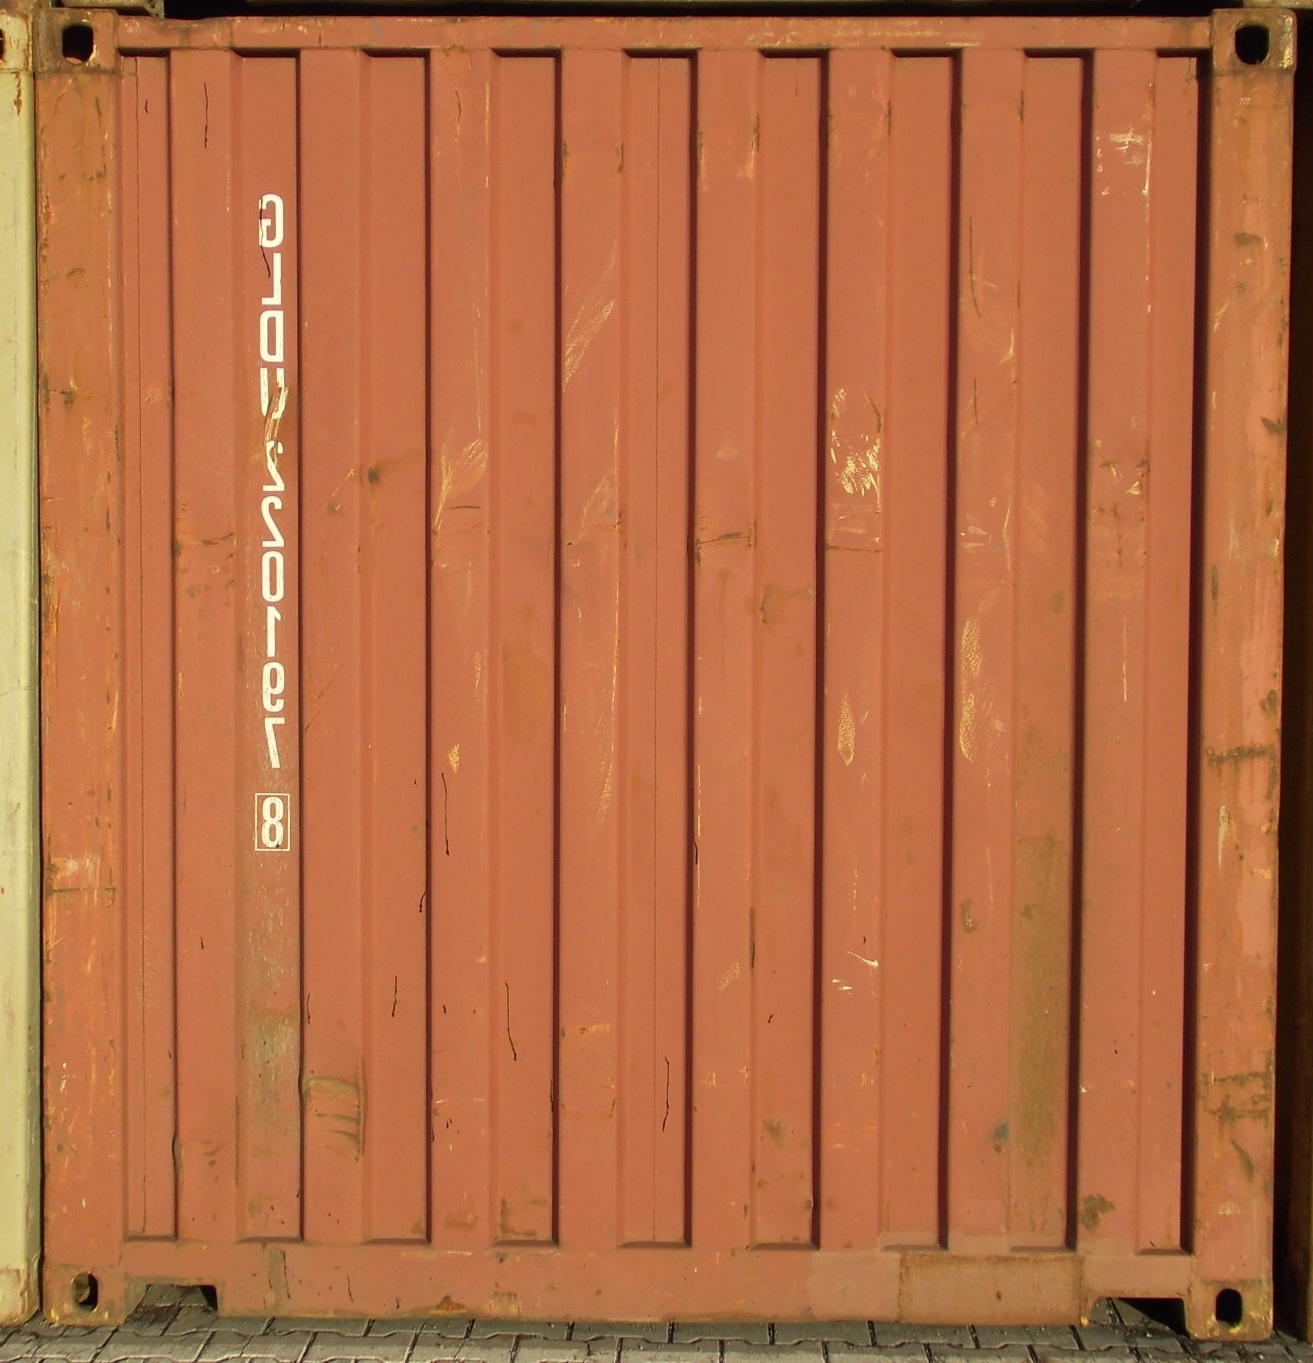container_no_door: (47, 1, 1270, 1341)
